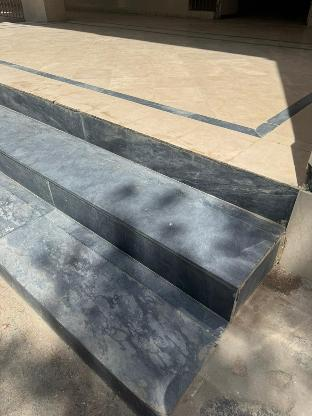stair: (0, 58, 295, 414)
